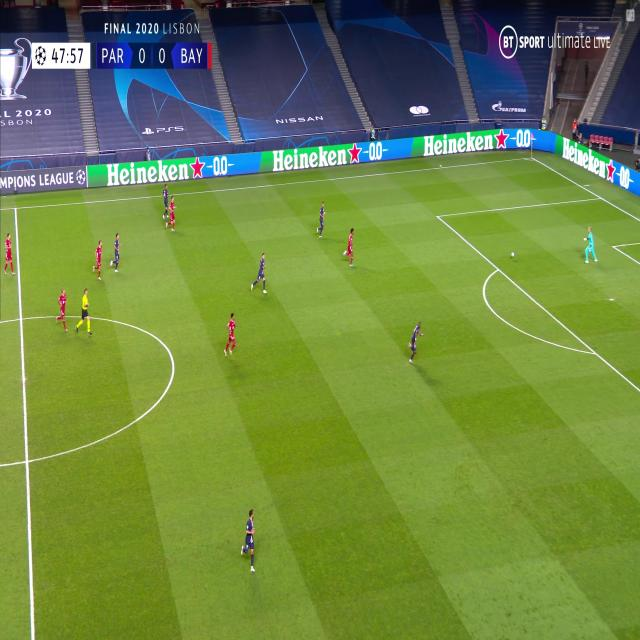ball: (510, 250, 515, 258)
player: (240, 507, 258, 574), (406, 320, 424, 364), (77, 287, 93, 336), (251, 252, 268, 294), (224, 311, 238, 358), (582, 225, 598, 264), (342, 226, 356, 266), (3, 231, 15, 277), (56, 287, 68, 332), (92, 239, 105, 279), (110, 232, 122, 273), (160, 184, 171, 220), (316, 200, 326, 238), (166, 195, 176, 231)
